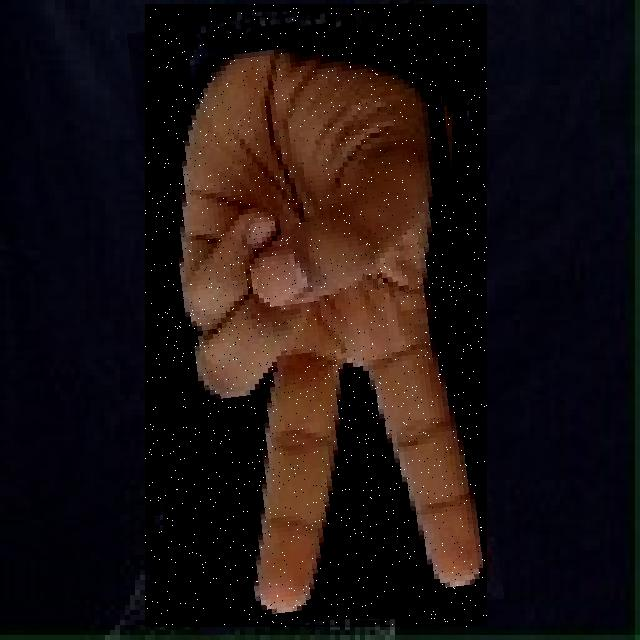No: (145, 4, 487, 627)
